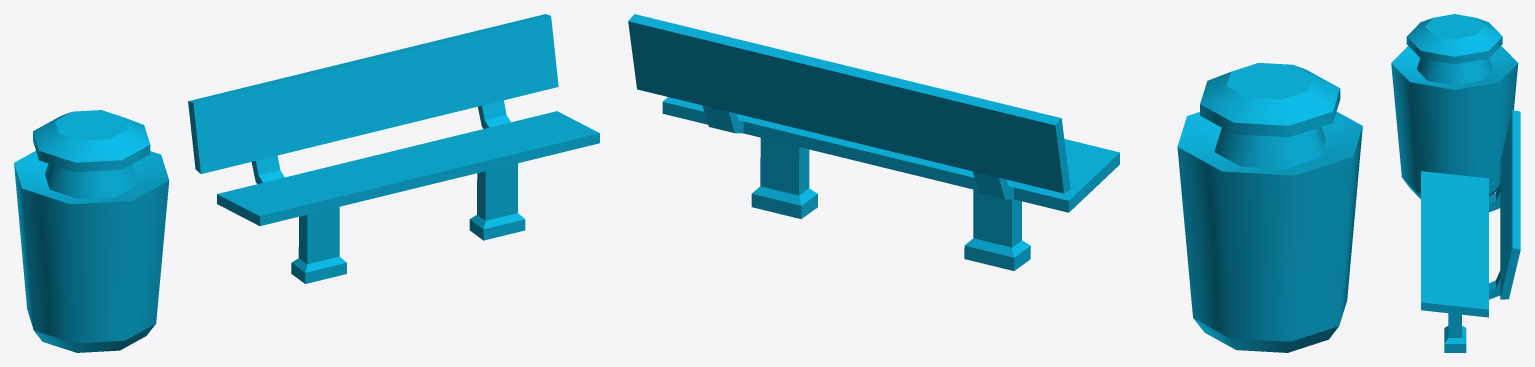
File: MESH_ParkDecoPackOne.fbx
The picture shows the model from 3 angles, left to right: view 1: azimuth 30°, elevation 25°; view 2: azimuth 150°, elevation 25°; view 3: azimuth 270°, elevation 25°; orthographic projection. The views are drawn at different scales.
Visible parts, largest first — view 1: MESH_ParkBench, MESH_TrashCan; view 2: MESH_ParkBench, MESH_TrashCan; view 3: MESH_TrashCan, MESH_ParkBench.
Boxes of the visible parts, box(x1,y1,x2,y2) form: MESH_ParkBench: box(188, 14, 599, 283); MESH_TrashCan: box(14, 110, 169, 352); MESH_ParkBench: box(628, 14, 1119, 270); MESH_TrashCan: box(1177, 63, 1362, 352); MESH_TrashCan: box(1391, 14, 1518, 198); MESH_ParkBench: box(1421, 110, 1520, 352).
Size of the model in its own units: 3.28 by 1.13 by 0.8232.
